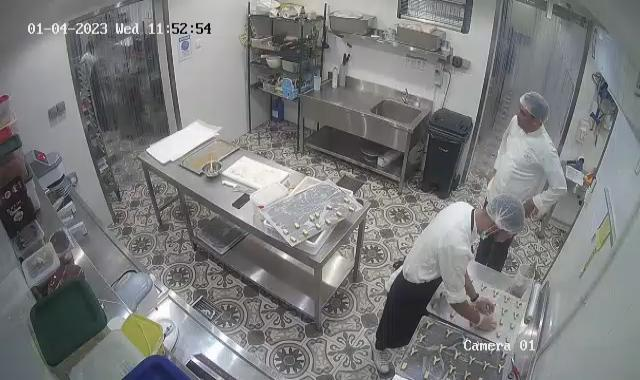hairnet: (486, 193, 526, 240), (517, 88, 551, 128)
